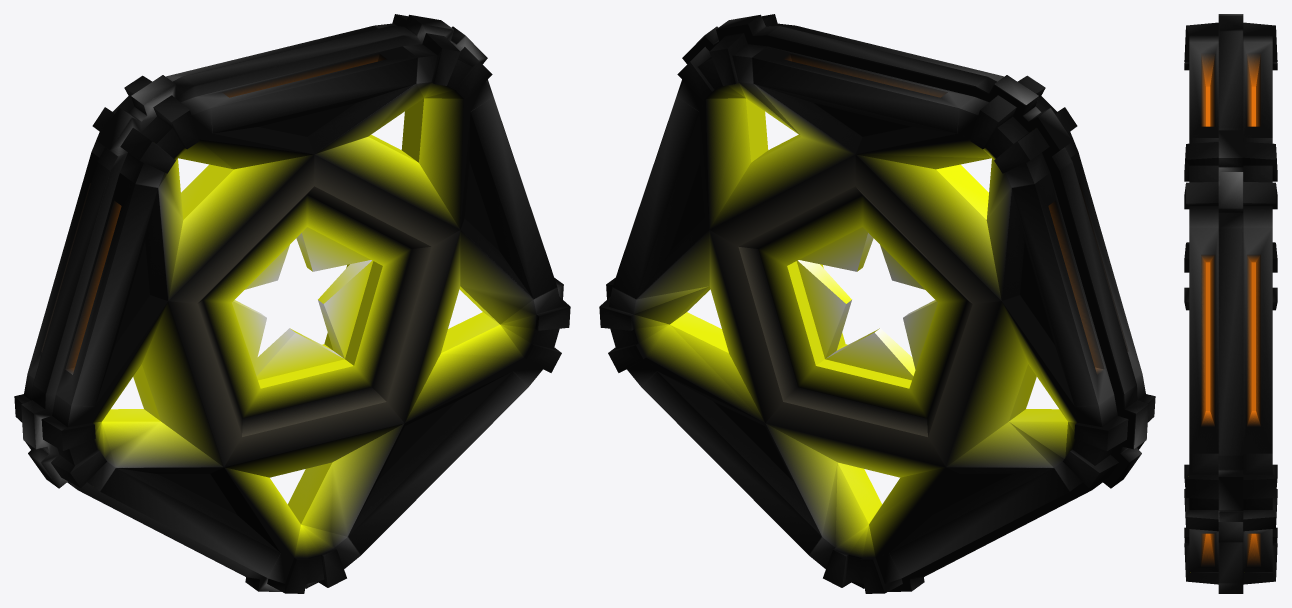
The model's file is Symbolics03.FBX.
The picture shows the model from 3 angles, left to right: view 1: azimuth 30°, elevation 25°; view 2: azimuth 150°, elevation 25°; view 3: azimuth 270°, elevation 25°; orthographic projection. The views are drawn at different scales.
Parts seen in each view (by area): view 1: Symbolics03; view 2: Symbolics03; view 3: Symbolics03.
Boxes of the visible parts, bbox=[...] form: Symbolics03: bbox=[14, 14, 570, 593]; Symbolics03: bbox=[599, 14, 1155, 593]; Symbolics03: bbox=[1184, 14, 1277, 593].
Size of the model in its own units: 32.27 by 31.21 by 5.16.
